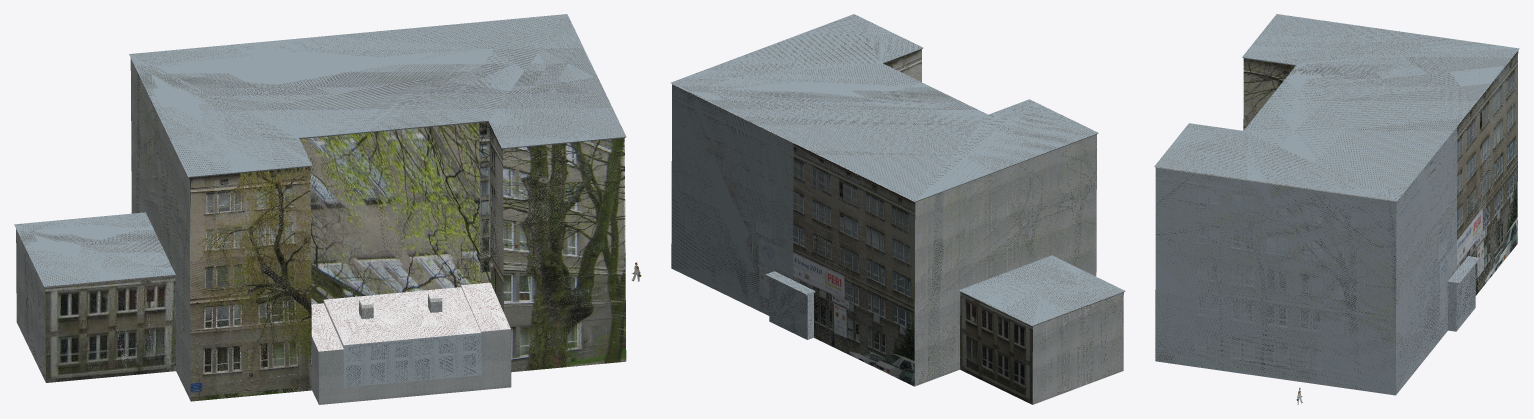
Rendered from Hydro.fbx.
The picture shows the model from 3 angles, left to right: view 1: azimuth 30°, elevation 25°; view 2: azimuth 150°, elevation 25°; view 3: azimuth 270°, elevation 25°; orthographic projection. The views are drawn at different scales.
Visible parts, largest first — view 1: hydro1; view 2: hydro1; view 3: hydro1.
Boxes of the visible parts, box(x1,y1,x2,y2) form: hydro1: box(14, 14, 626, 404); hydro1: box(670, 14, 1125, 404); hydro1: box(1154, 14, 1519, 395).
Size of the model in its own units: 1999 by 792 by 1326.
